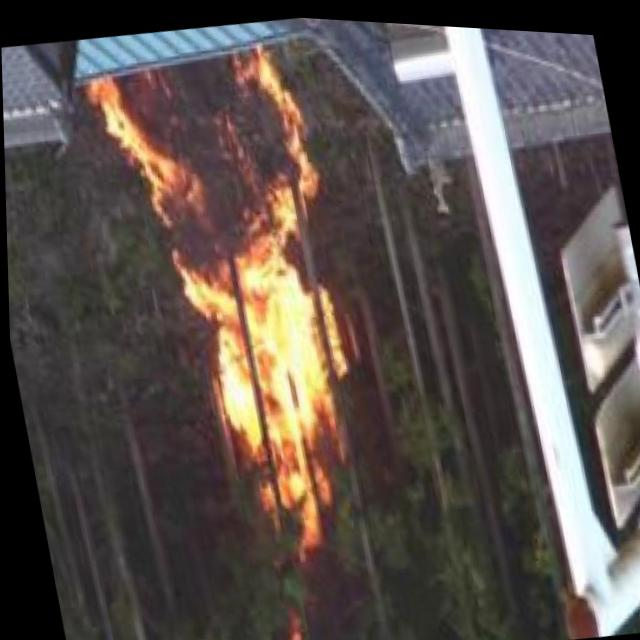Fire: (83, 37, 384, 564)
